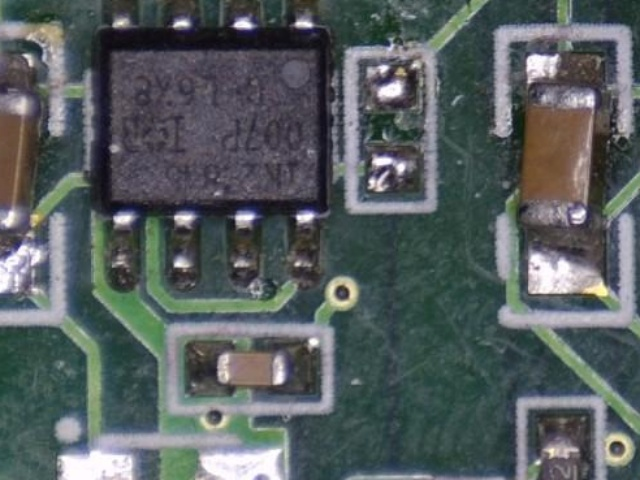pcb_defect: (516, 50, 609, 296)
